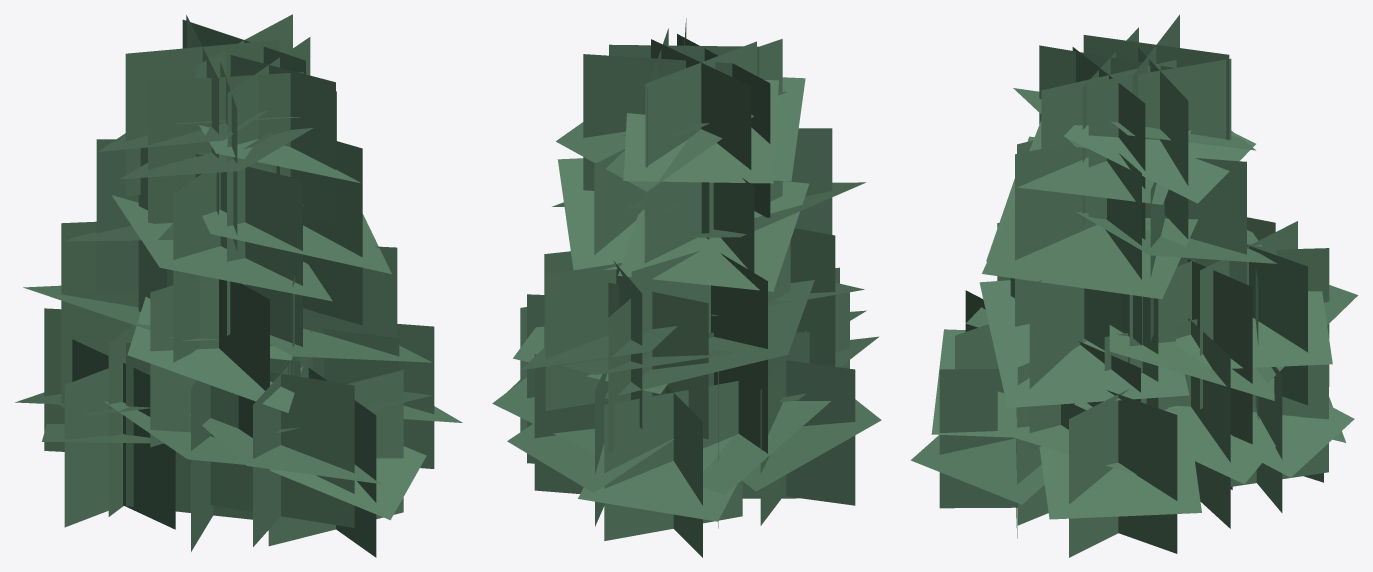
The model's file is pin_1_f3_loin.glb.
3 views of the same model, side by side, from view 1: azimuth 30°, elevation 25°; view 2: azimuth 150°, elevation 25°; view 3: azimuth 270°, elevation 25° (orthographic). The views are drawn at different scales.
Visible parts, largest first — view 1: Pin_T1_f3_Leger_Loin; view 2: Pin_T1_f3_Leger_Loin; view 3: Pin_T1_f3_Leger_Loin.
Boxes of the visible parts, x1,y1,x2,y2 form: Pin_T1_f3_Leger_Loin: (15,14,462,557); Pin_T1_f3_Leger_Loin: (492,18,881,557); Pin_T1_f3_Leger_Loin: (910,14,1358,557).
Bounding box in the file's own units: 7.31 × 8.15 × 7.63.
